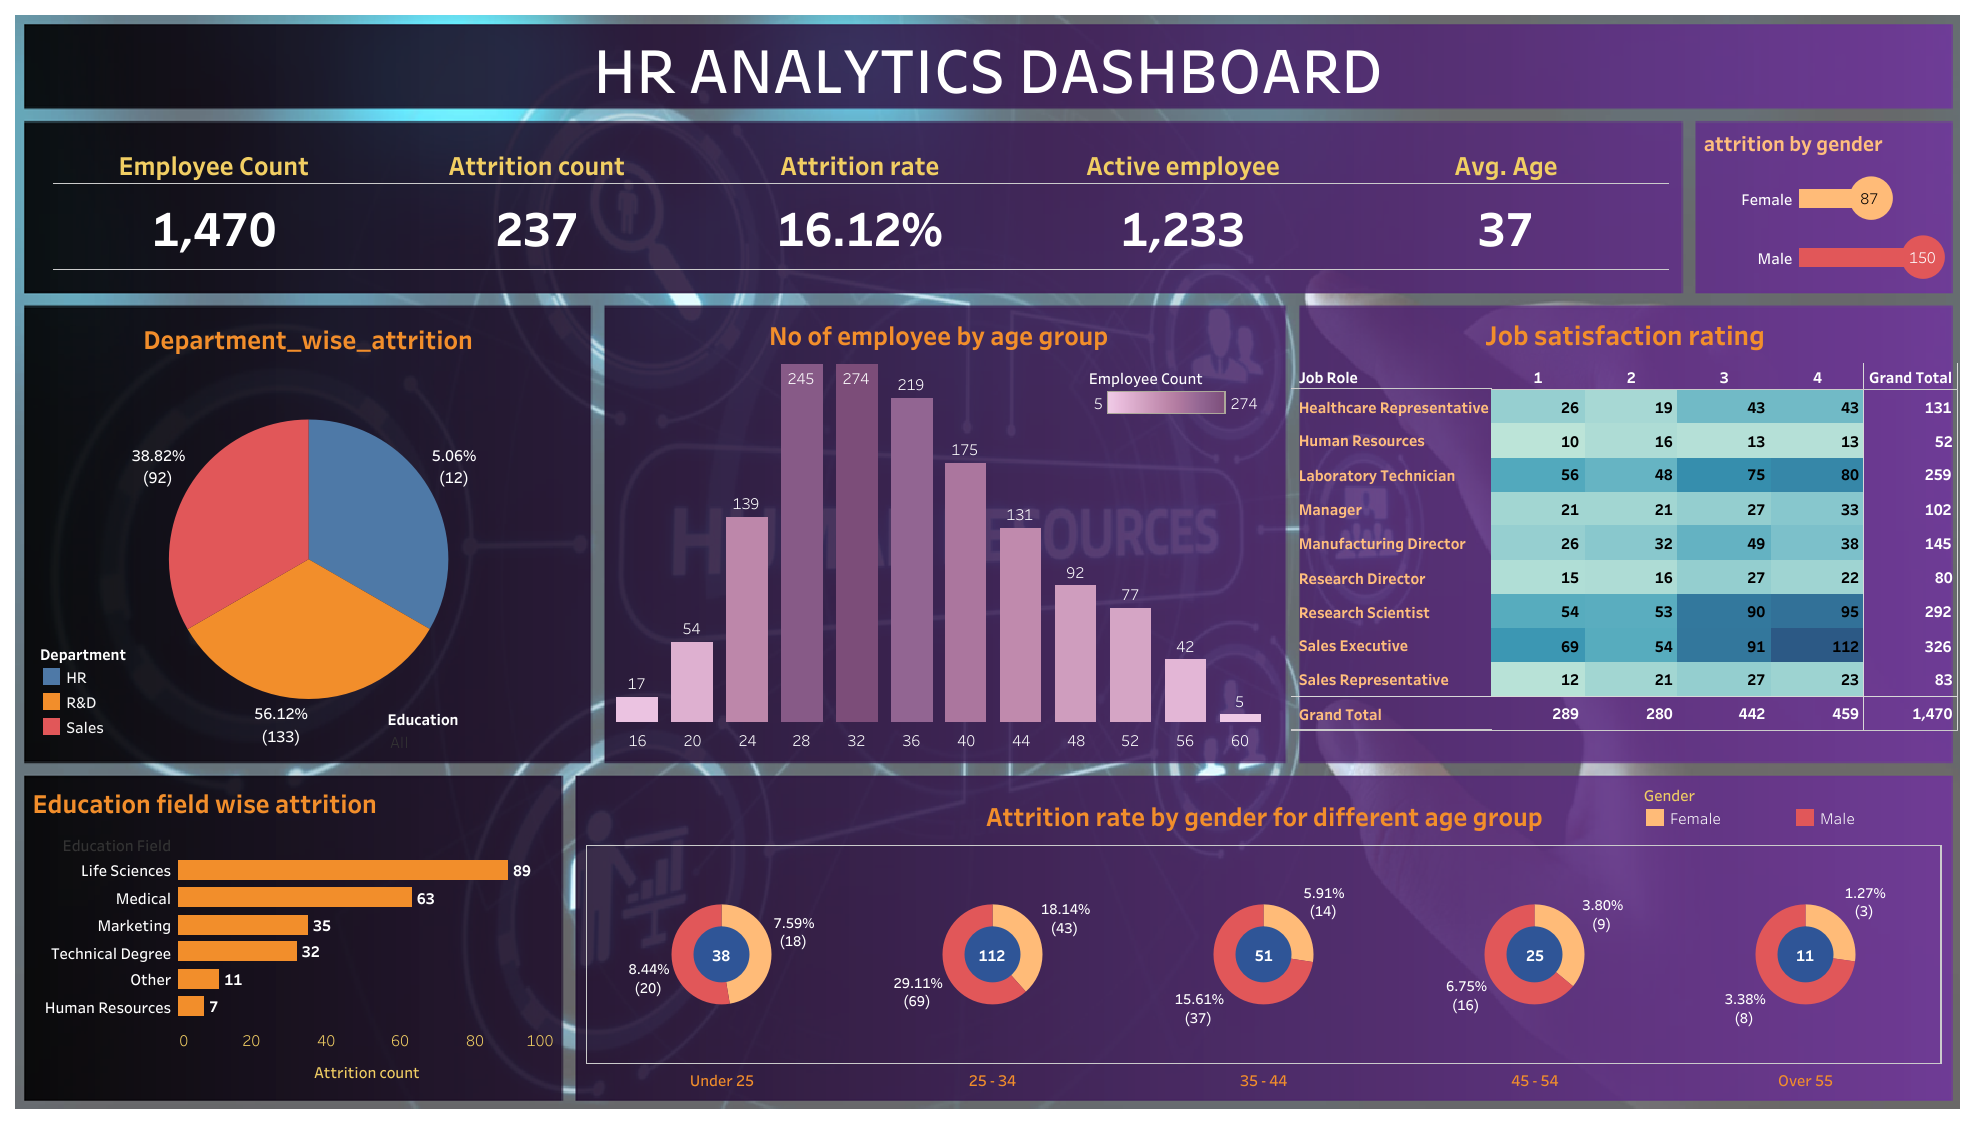

Layout of this report page (visuals, bound fields, positions):
{"tool":"tableau","page":{"name":"HR Analytics Dashboard","canvas":[1580,900],"ordinal":0},"visuals":[{"type":"image","param":"Image/HR background.png","box":[8,8,1564,884]},{"type":"text","box":[51,27,1479,54]},{"type":"worksheet","title":"attrition by gender","mark":"Automatic","rows":["Gender"],"cols":["Calculation_0749622007705601","Calculation_0749622007705601"],"box":[1359,97,202,132]},{"type":"worksheet","title":"KPI","mark":"Automatic","box":[42,106,1293,110]},{"type":"worksheet","title":"Job satisfaction rating","mark":"Square","rows":["Job Role"],"cols":["Job Satisfaction"],"box":[1033,247,534,338]},{"type":"worksheet","title":"No of employee by age group","mark":"Automatic","rows":["Employee Count"],"cols":["Age (bin)"],"box":[488,248,526,353]},{"type":"worksheet","title":"Department_wise_attrition","mark":"Pie","box":[30,251,433,349]},{"type":"legend","title":"No of employee by age group","param":"[federated.0jtdgkq0vq75ji14km5v411da5ab].[sum:Employee Count:qk]","box":[871,289,140,88]},{"type":"legend","title":"Department_wise_attrition","param":"[federated.0jtdgkq0vq75ji14km5v411da5ab].[none:Department:nk]","box":[31,512,140,85]},{"type":"filter","title":"Department_wise_attrition","param":"[federated.0jtdgkq0vq75ji14km5v411da5ab].[none:Education:nk]","box":[310,565,160,43]},{"type":"worksheet","title":"Education field wise attrition ","mark":"Automatic","rows":["Education Field"],"cols":["Calculation_0749622007705601"],"box":[22,622,423,251]},{"type":"legend","title":"Attrition rate by gender for different age group","param":"[federated.0jtdgkq0vq75ji14km5v411da5ab].[none:Gender:nk]","box":[1314,625,243,56]},{"type":"worksheet","title":"Attrition rate by gender for different age group","mark":"Pie","rows":["Calculation_0141317556310018","Calculation_0141317556310018"],"cols":["CF_age band"],"box":[469,633,1085,241]}]}

Visuals, with their boxes in screenshot pixels (x1, y1, x2, y2), scaled from the page's 1580x900 canvas onto the 1974x1124 screenshot:
image: bbox(10, 10, 1964, 1114)
text: bbox(64, 34, 1912, 101)
"attrition by gender" worksheet: bbox(1698, 121, 1950, 286)
"KPI" worksheet: bbox(52, 132, 1668, 270)
"Job satisfaction rating" worksheet (Square marks): bbox(1291, 308, 1958, 731)
"No of employee by age group" worksheet: bbox(610, 310, 1267, 751)
"Department_wise_attrition" worksheet (Pie marks): bbox(37, 313, 578, 749)
"No of employee by age group" legend: bbox(1088, 361, 1263, 471)
"Department_wise_attrition" legend: bbox(39, 639, 214, 746)
"Department_wise_attrition" filter: bbox(387, 706, 587, 759)
"Education field wise attrition " worksheet: bbox(27, 777, 556, 1090)
"Attrition rate by gender for different age group" legend: bbox(1642, 781, 1945, 850)
"Attrition rate by gender for different age group" worksheet (Pie marks): bbox(586, 791, 1942, 1092)
